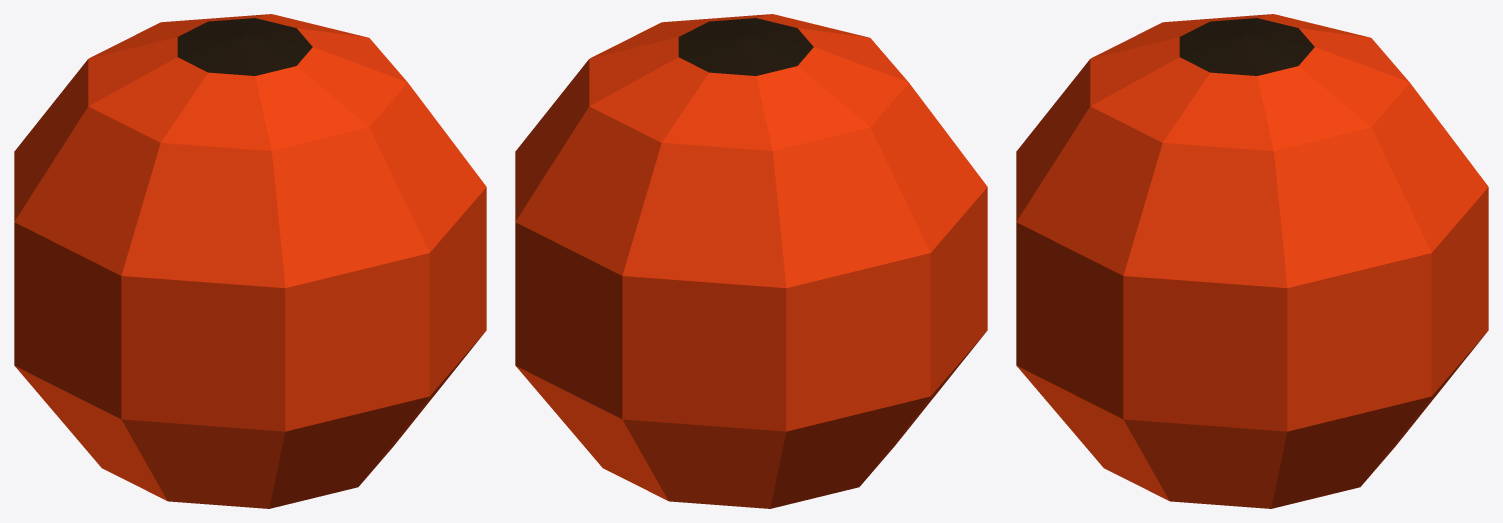
3 renders of one model, left to right at view 1: azimuth 30°, elevation 25°; view 2: azimuth 150°, elevation 25°; view 3: azimuth 270°, elevation 25°, orthographic.
Parts seen in each view (by area): view 1: Orange_Sphere.006; view 2: Orange_Sphere.006; view 3: Orange_Sphere.006.
Boxes of the visible parts, bbox=[...] form: Orange_Sphere.006: bbox=[14, 14, 486, 508]; Orange_Sphere.006: bbox=[515, 14, 987, 508]; Orange_Sphere.006: bbox=[1016, 14, 1488, 508].
Size of the model in its own units: 1.9 by 1.99 by 1.87.
Materials: 1 (1 with a texture image).
